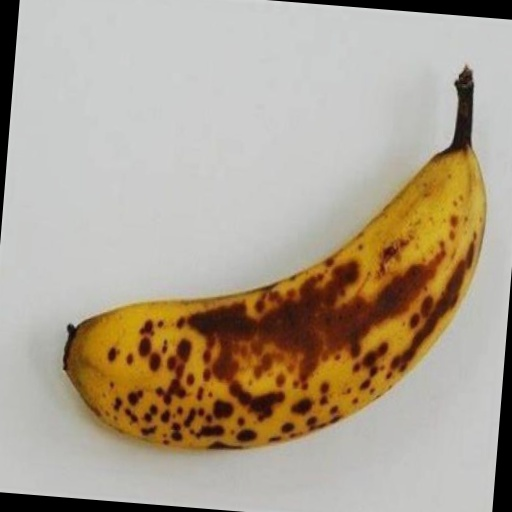fruit: (444, 126, 510, 407)
